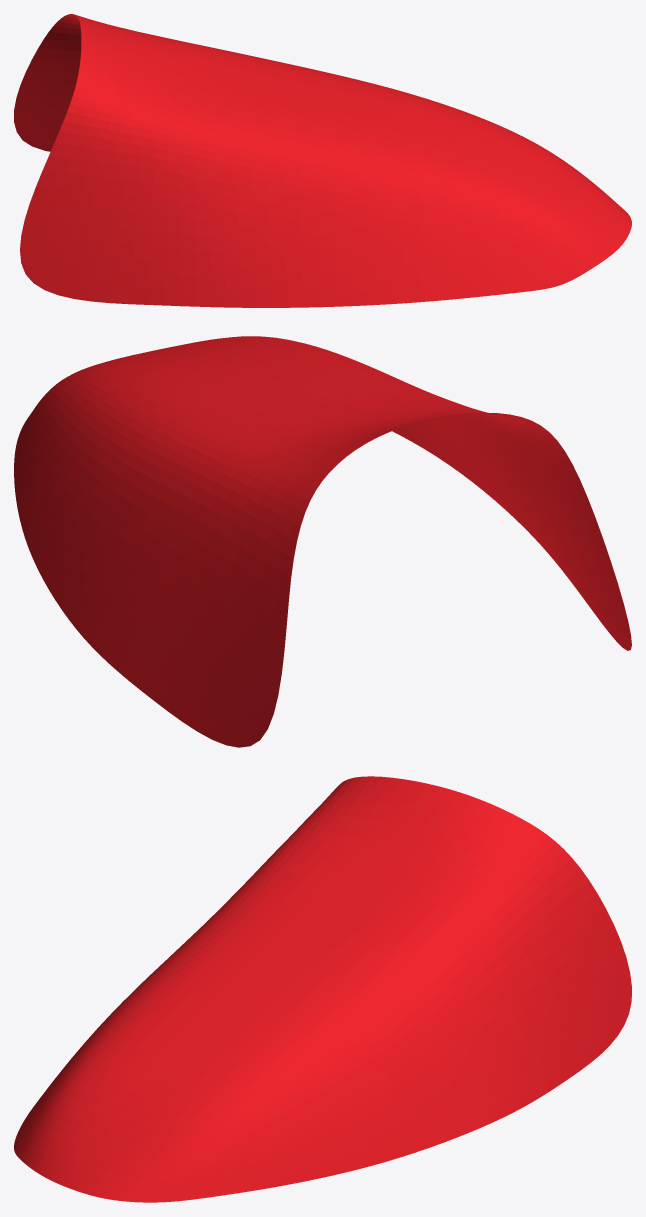
Rendered from frontLeftRED.obj.
3 views of the same model, one above another, from view 1: azimuth 30°, elevation 25°; view 2: azimuth 150°, elevation 25°; view 3: azimuth 270°, elevation 25° (orthographic). The views are drawn at different scales.
Parts seen in each view (by area): view 1: Plane; view 2: Plane; view 3: Plane.
Boxes of the visible parts, bbox=[...] form: Plane: bbox=[14, 14, 631, 307]; Plane: bbox=[14, 336, 631, 747]; Plane: bbox=[14, 776, 631, 1202].
Bounding box in the file's own units: 13.97 × 5.13 × 13.03.
